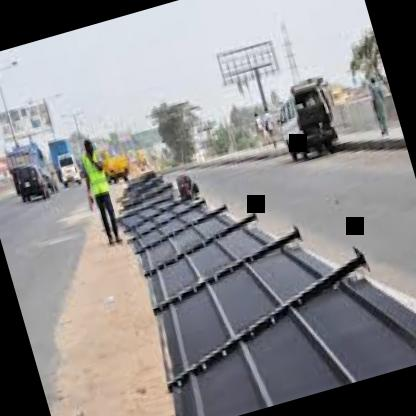car: (265, 65, 353, 170), (0, 133, 58, 208), (50, 148, 88, 192)
